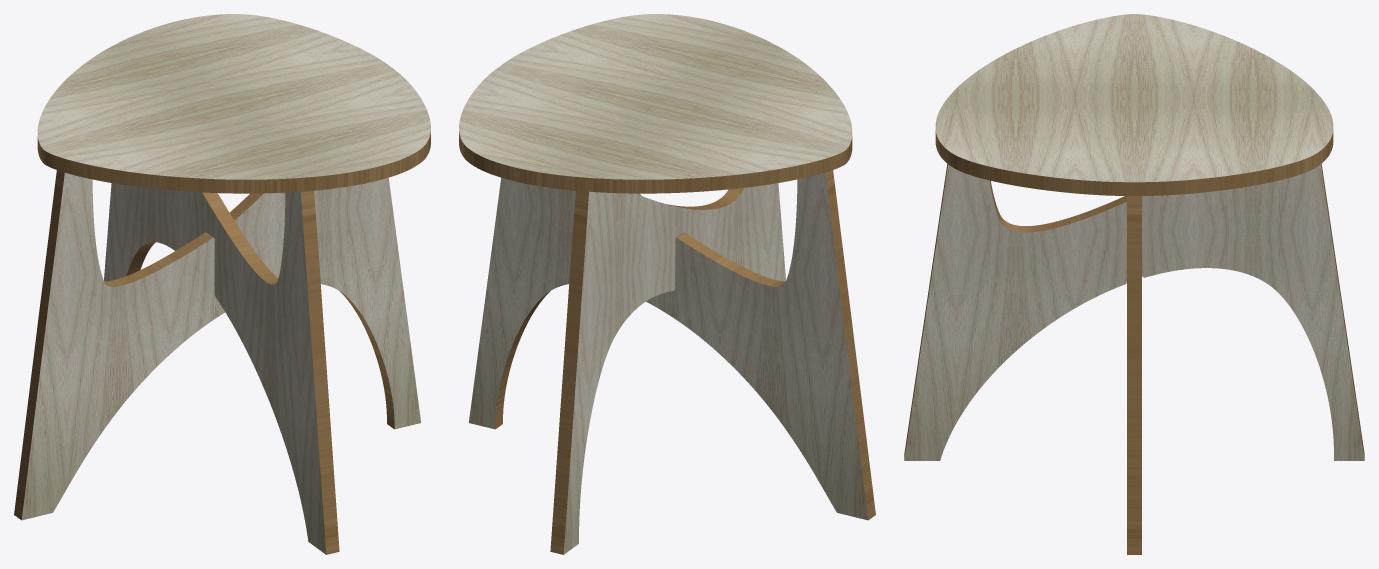
The model's file is NODO_BANQUETA_CRUZ_KIRI_V3_MAESTRO_CORREGIDO.glb.
3 renders of one model, left to right at view 1: azimuth 30°, elevation 25°; view 2: azimuth 150°, elevation 25°; view 3: azimuth 270°, elevation 25°, orthographic.
Parts seen in each view (by area): view 1: Tapa, Lateral_2, Lateral_1; view 2: Tapa, Lateral_2, Lateral_1; view 3: Tapa, Lateral_1, Lateral_2.
Boxes of the visible parts, x1,y1,x2,y2 form: Tapa: (37, 14, 430, 193); Lateral_2: (14, 170, 420, 520); Lateral_1: (104, 183, 339, 554); Tapa: (459, 14, 852, 193); Lateral_2: (469, 170, 875, 520); Lateral_1: (550, 183, 785, 554); Tapa: (935, 14, 1333, 195); Lateral_1: (904, 164, 1364, 460); Lateral_2: (1127, 196, 1141, 554).
Size of the model in its own units: 0.5431 by 0.468 by 0.5431.
2 materials, 2 textured.
